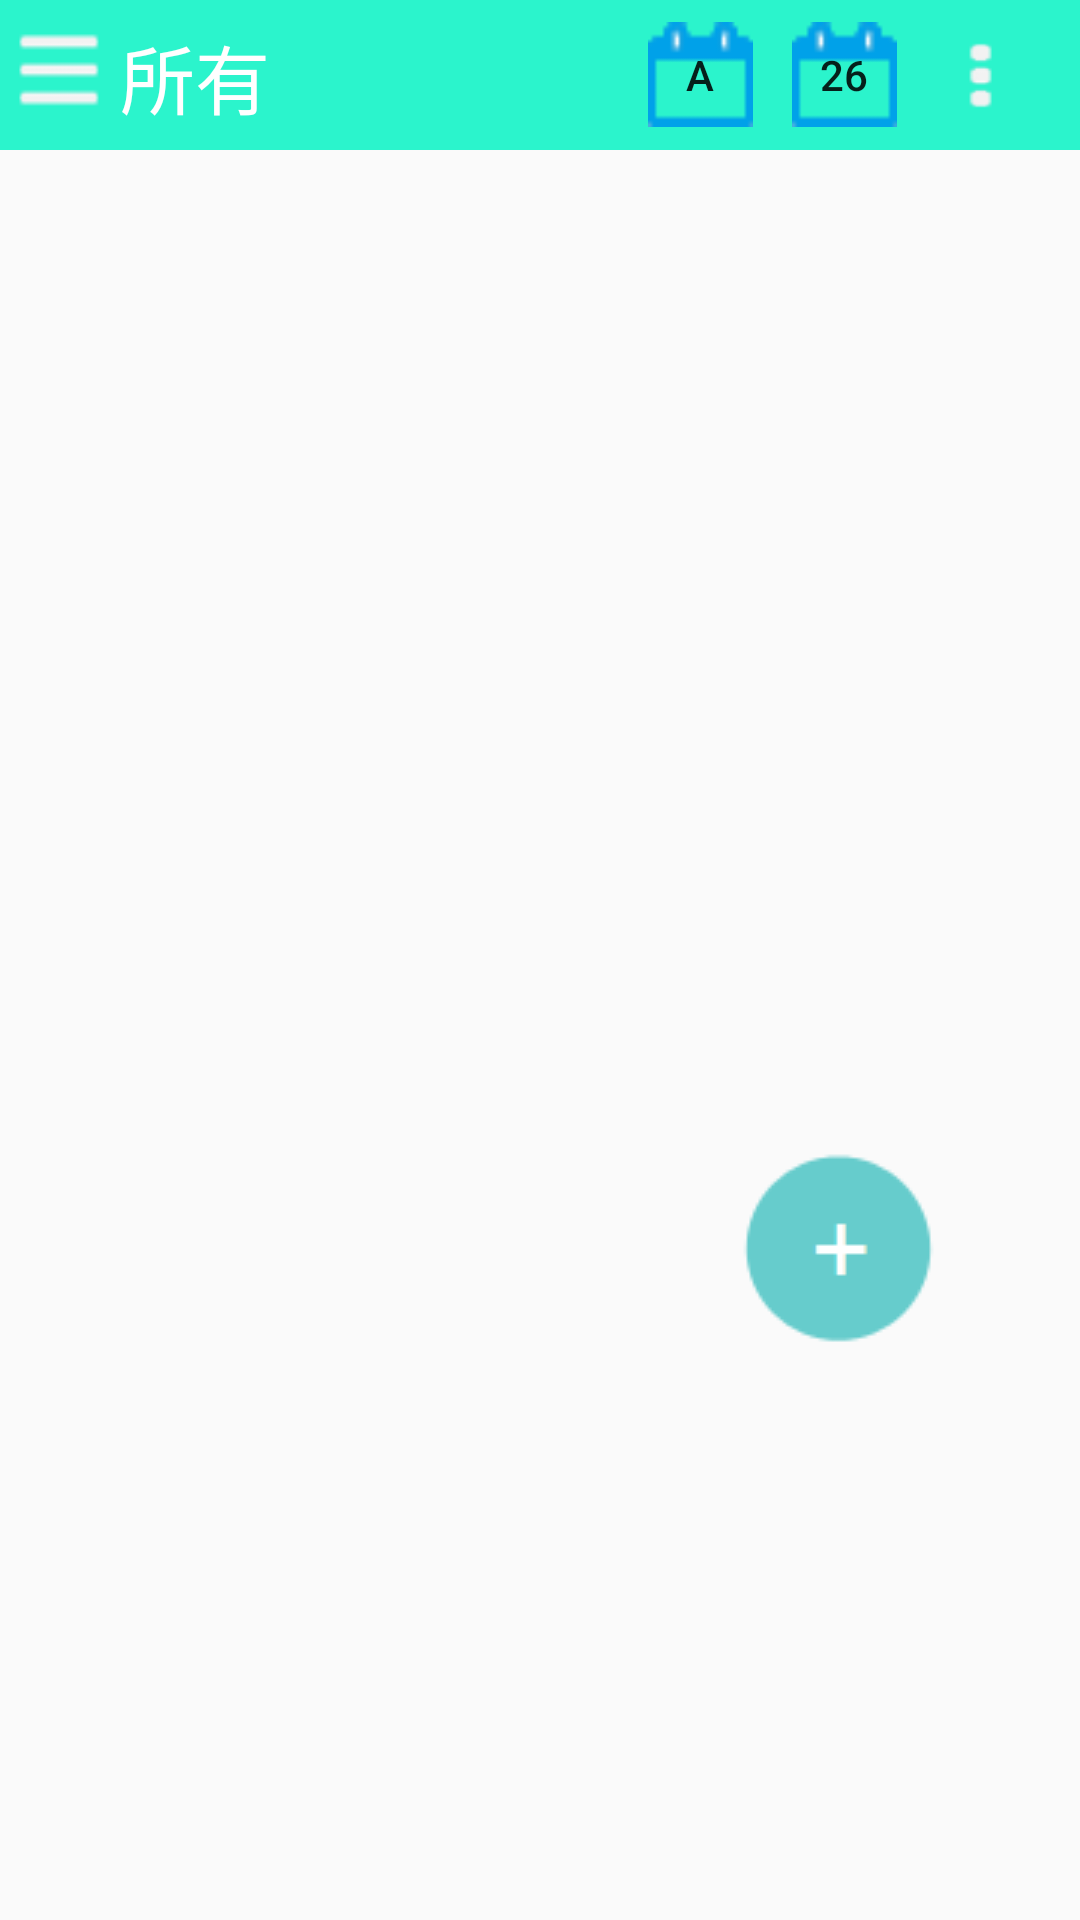

Screen size 1080 x 1920. Icon name, then its box in pixels as (x1=x1, y1=y1, x2=x2, y2=y2):
list: (x1=19, y1=34, x2=99, y2=105)
